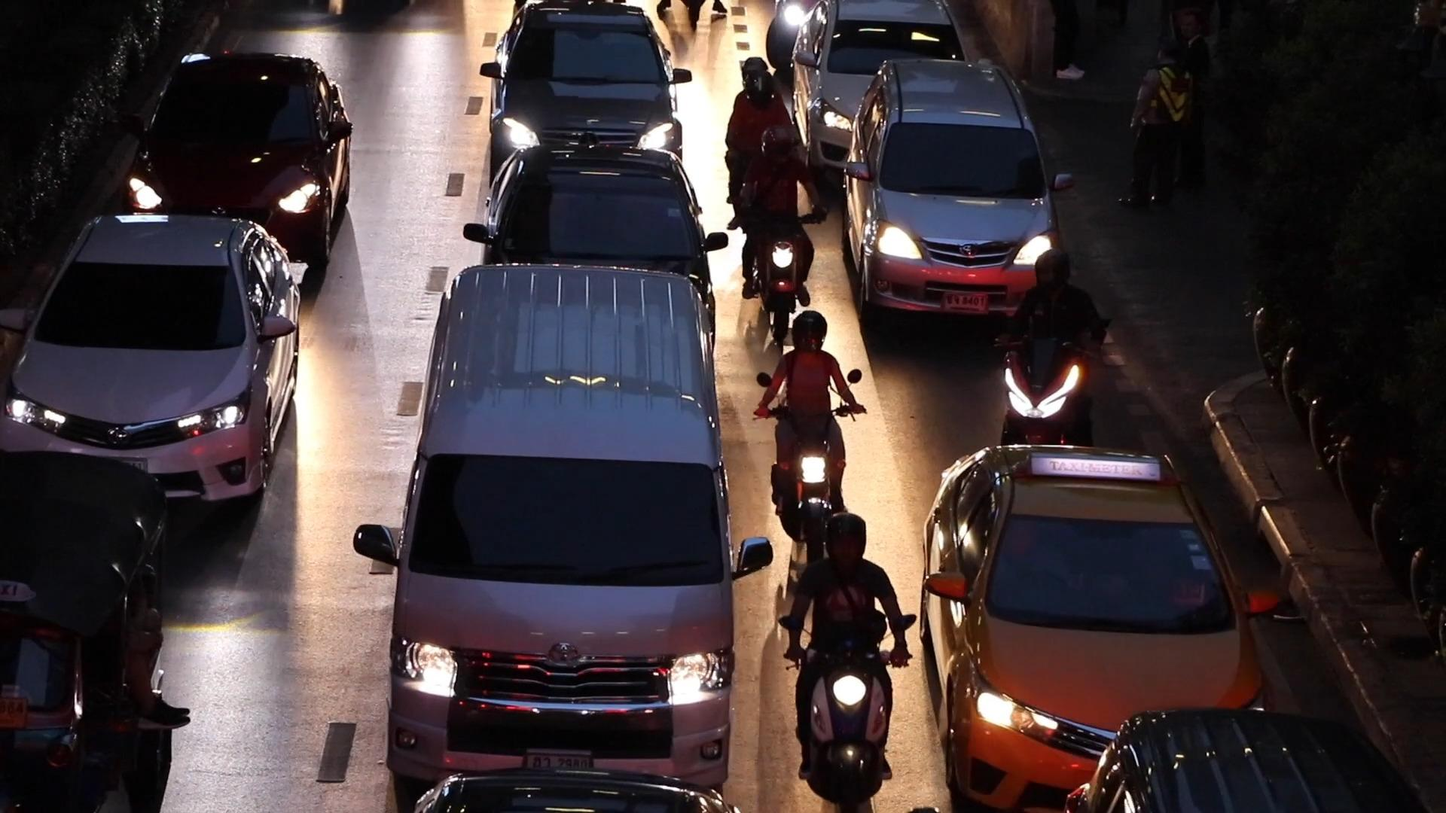driver: (779, 512, 917, 813), (751, 309, 866, 566), (992, 246, 1111, 446), (726, 123, 829, 342)
helmet: (823, 511, 868, 568), (1035, 246, 1072, 295), (791, 309, 827, 357), (759, 124, 792, 169), (743, 69, 776, 110), (741, 57, 769, 83)
